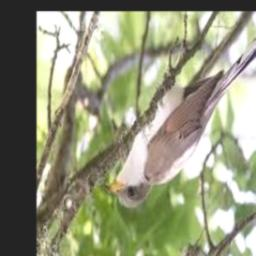Cuckoo: (104, 32, 256, 209)
